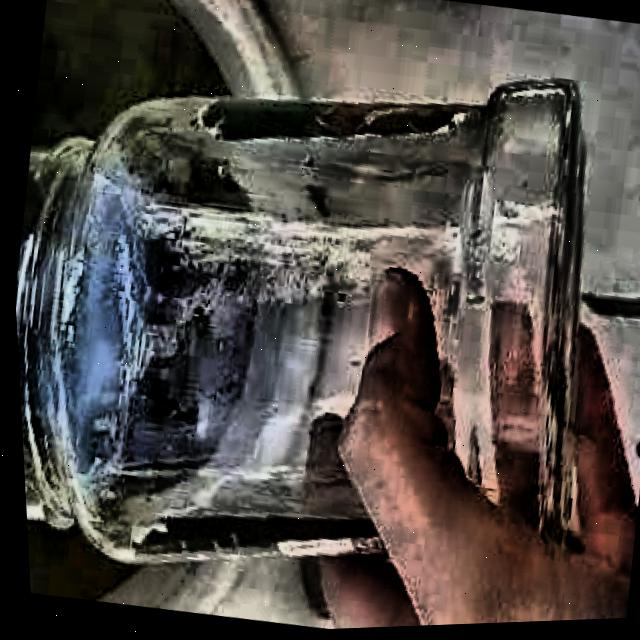glass: (12, 88, 581, 565)
